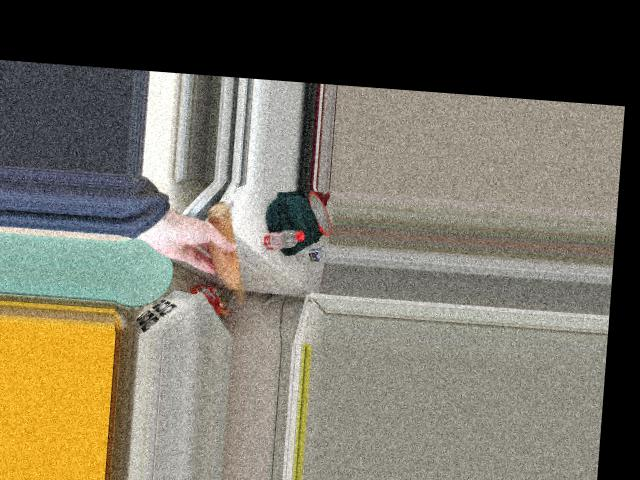sweet_potato: (198, 207, 255, 301)
